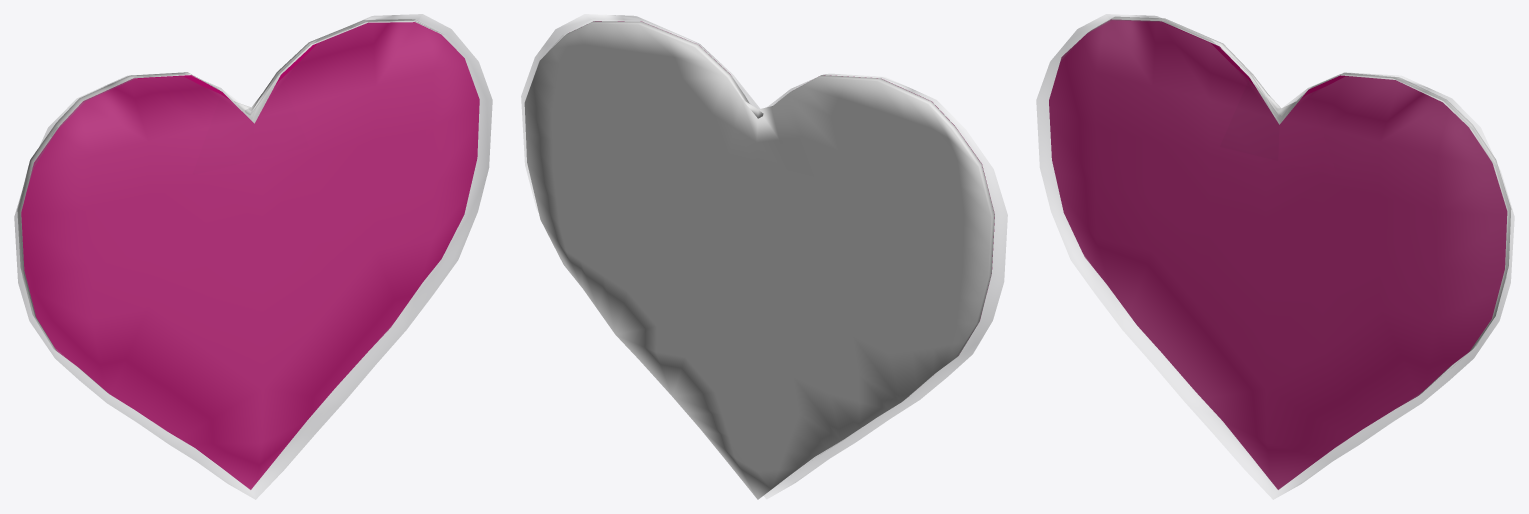
The model's file is heart_pink.glb.
The picture shows the model from 3 angles, left to right: view 1: azimuth 30°, elevation 25°; view 2: azimuth 150°, elevation 25°; view 3: azimuth 330°, elevation 25°; orthographic projection.
Parts seen in each view (by area): view 1: 平面, PHOTO_PLANE, 平面11; view 2: 平面11, 平面; view 3: 平面, PHOTO_PLANE, 平面11.
Part boxes in pixels (box(x1,y1,x2,y2)): 平面: box(14, 14, 492, 499); PHOTO_PLANE: box(21, 22, 479, 489); 平面11: box(17, 19, 439, 391); 平面11: box(524, 21, 994, 499); 平面: box(521, 14, 1007, 498); 平面: box(1036, 14, 1514, 499); PHOTO_PLANE: box(1049, 19, 1507, 489); 平面11: box(1091, 16, 1511, 394).
Bounding box in the file's own units: 2.28 × 2.05 × 0.1344.
